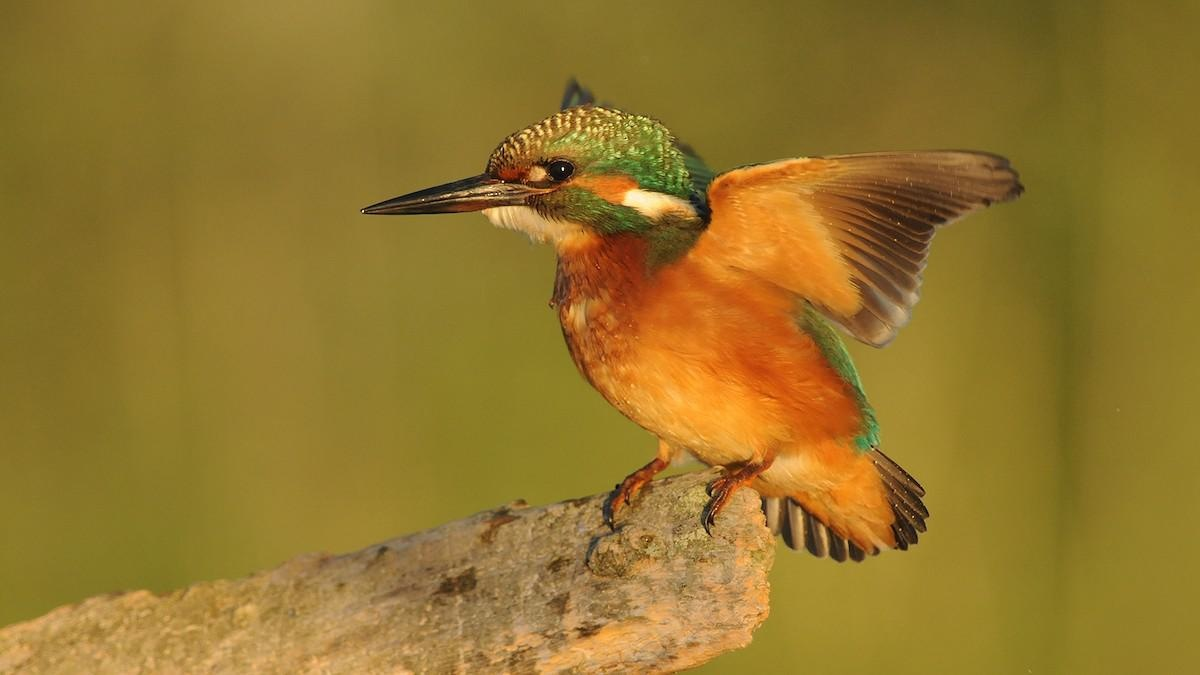kingfisher: (352, 87, 1001, 580)
